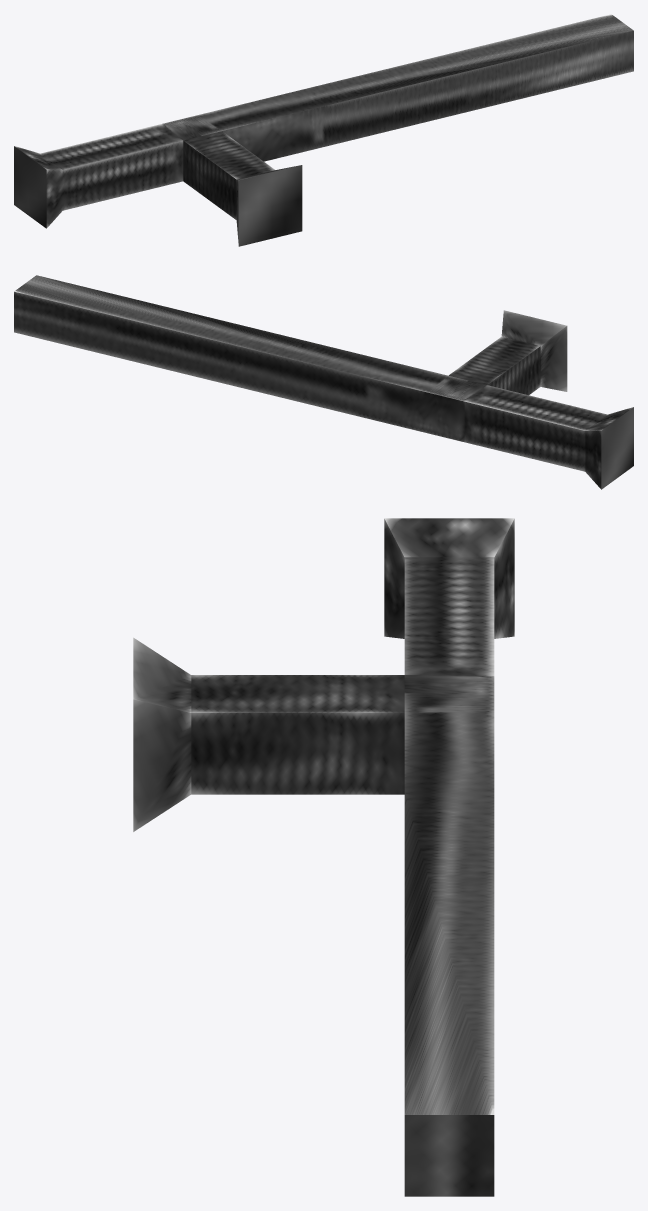
Rendered from baton.fbx.
3 renders of one model, top to bottom at view 1: azimuth 30°, elevation 25°; view 2: azimuth 150°, elevation 25°; view 3: azimuth 270°, elevation 25°, orthographic. The views are drawn at different scales.
Visible parts, largest first — view 1: baton; view 2: baton; view 3: baton.
Part boxes in pixels (x1=…): baton: x1=14, y1=14, x2=633, y2=246; baton: x1=14, y1=275, x2=633, y2=489; baton: x1=133, y1=518, x2=514, y2=1196.
Size of the model in its own units: 541 by 57.92 by 151.
1 material, 1 textured.
